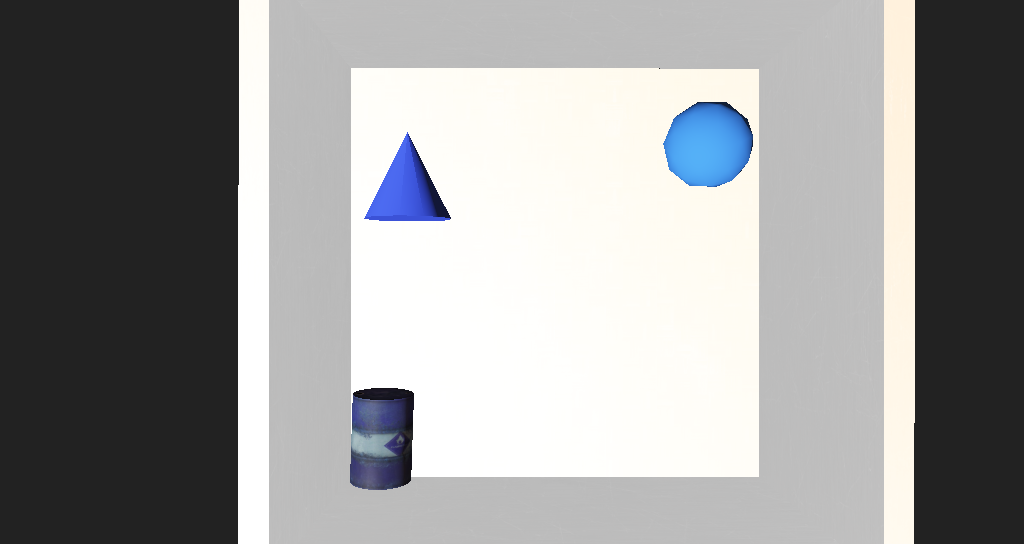cone: (350, 329, 404, 377)
cylinder: (364, 193, 431, 246)
sphere: (579, 184, 647, 227)
